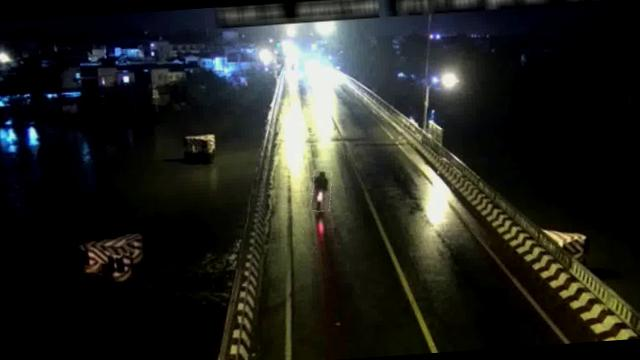Bike: (309, 169, 332, 211)
